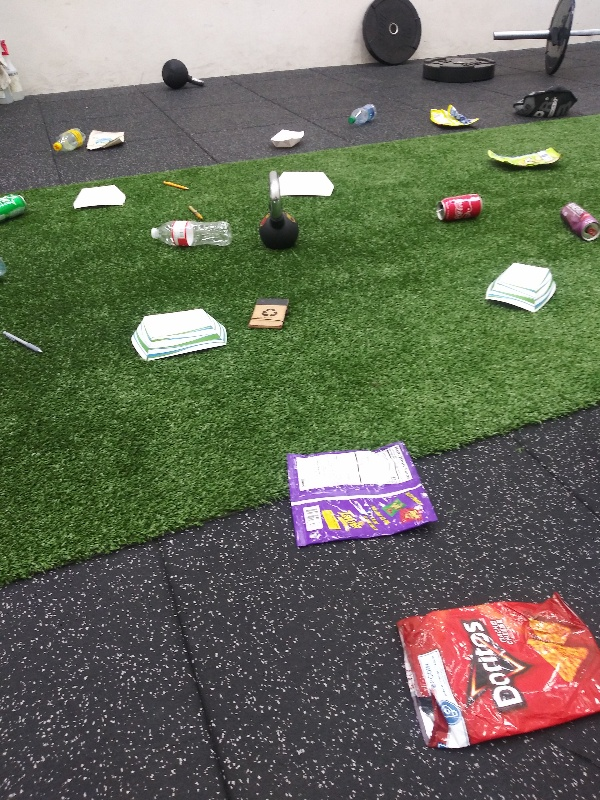bag: (392, 589, 600, 756), (279, 438, 440, 549), (481, 142, 567, 173), (424, 101, 485, 130), (84, 125, 132, 154)
bottle: (144, 218, 234, 254), (47, 123, 96, 157), (343, 100, 383, 128)
can: (430, 190, 489, 228), (551, 200, 600, 245), (1, 188, 34, 233)
plate: (129, 307, 231, 366), (480, 261, 561, 317), (272, 167, 344, 203), (62, 184, 132, 216), (270, 125, 308, 149)
